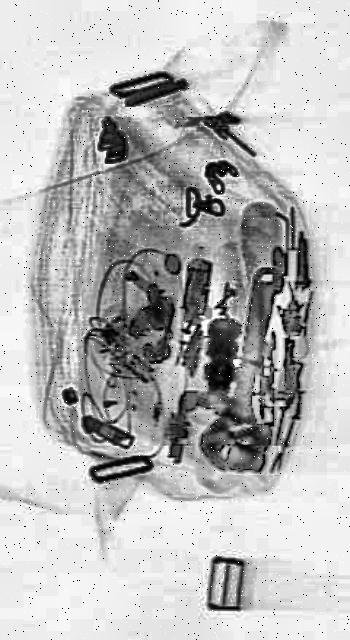Wrench: (195, 246, 295, 487)
